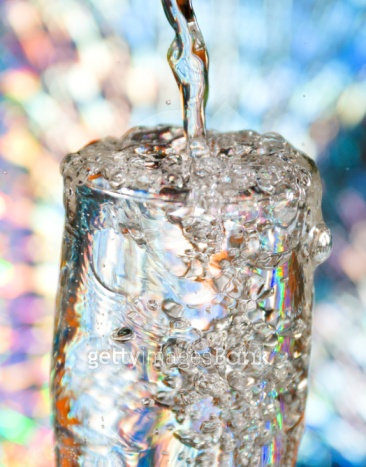glass of water: (43, 103, 323, 466)
